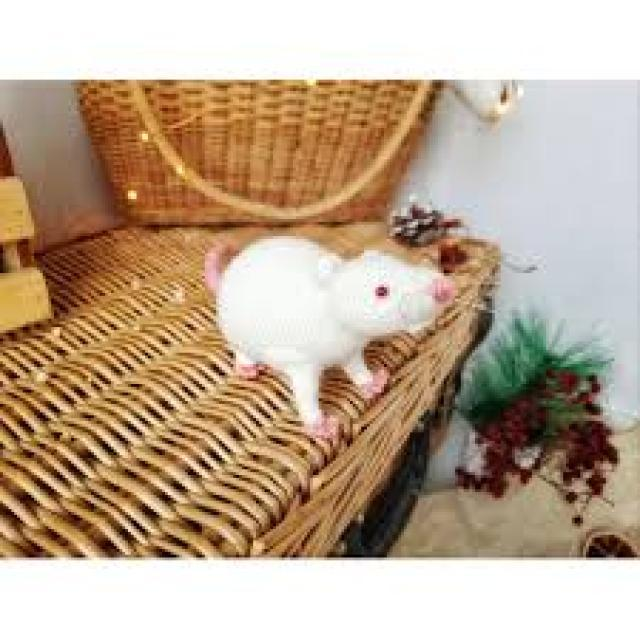Rat: (181, 181, 446, 471)
